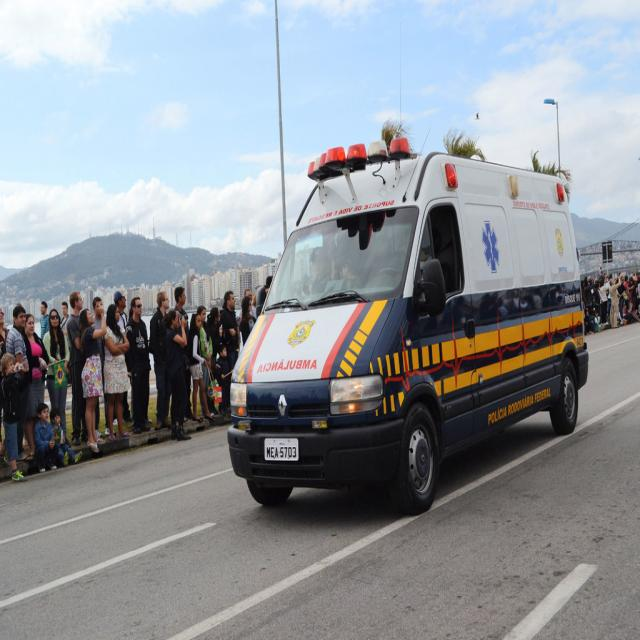Ambulance: (227, 125, 591, 517)
